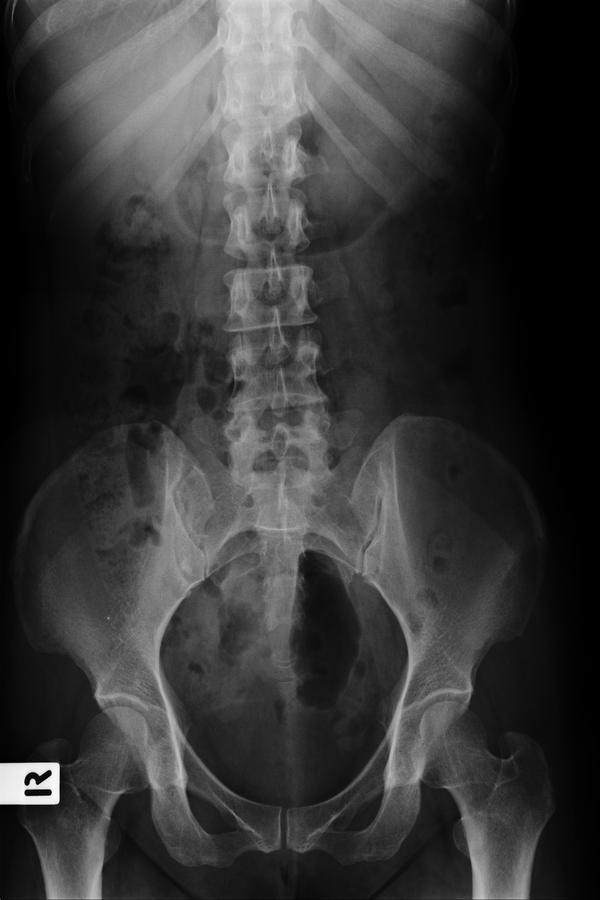lumbar scoliosis: (212, 8, 335, 491)
